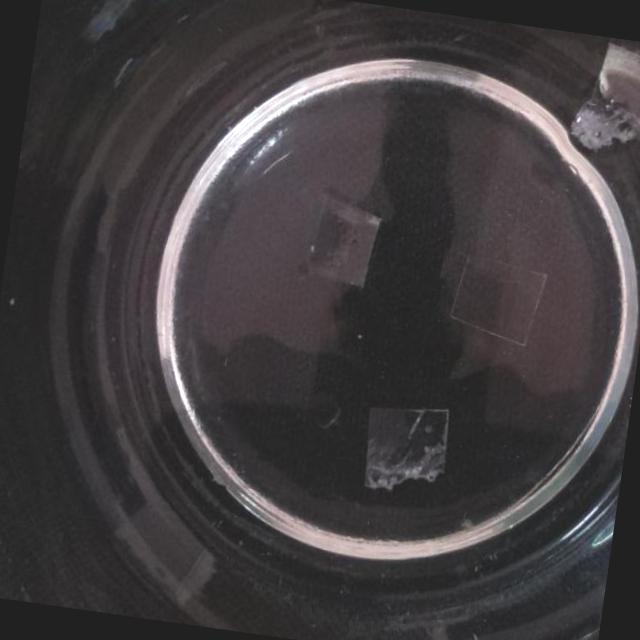fiber: (444, 252, 554, 358), (356, 390, 456, 501), (566, 35, 640, 161), (310, 191, 387, 298)
